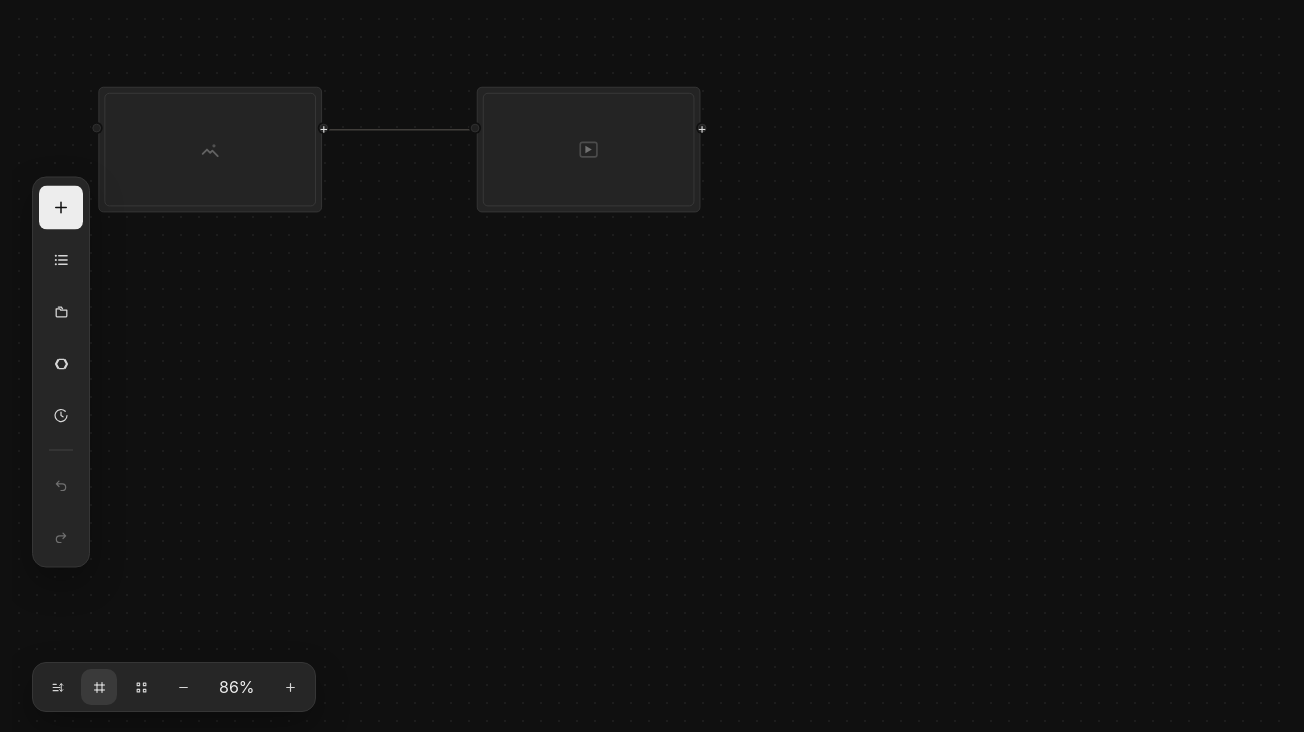
Scenario: NodeWorkflowPanel smoke › replicates the corrected left rail and bottom-left controls with dedicated actions
Expected: the button named "Open saved workflows" is shown, [39,290,83,334]
Expected: the button named "Open shared asset library" is shown, [39,342,83,386]
Click the button named "Add node" at (61, 208), box [39,186,83,230]
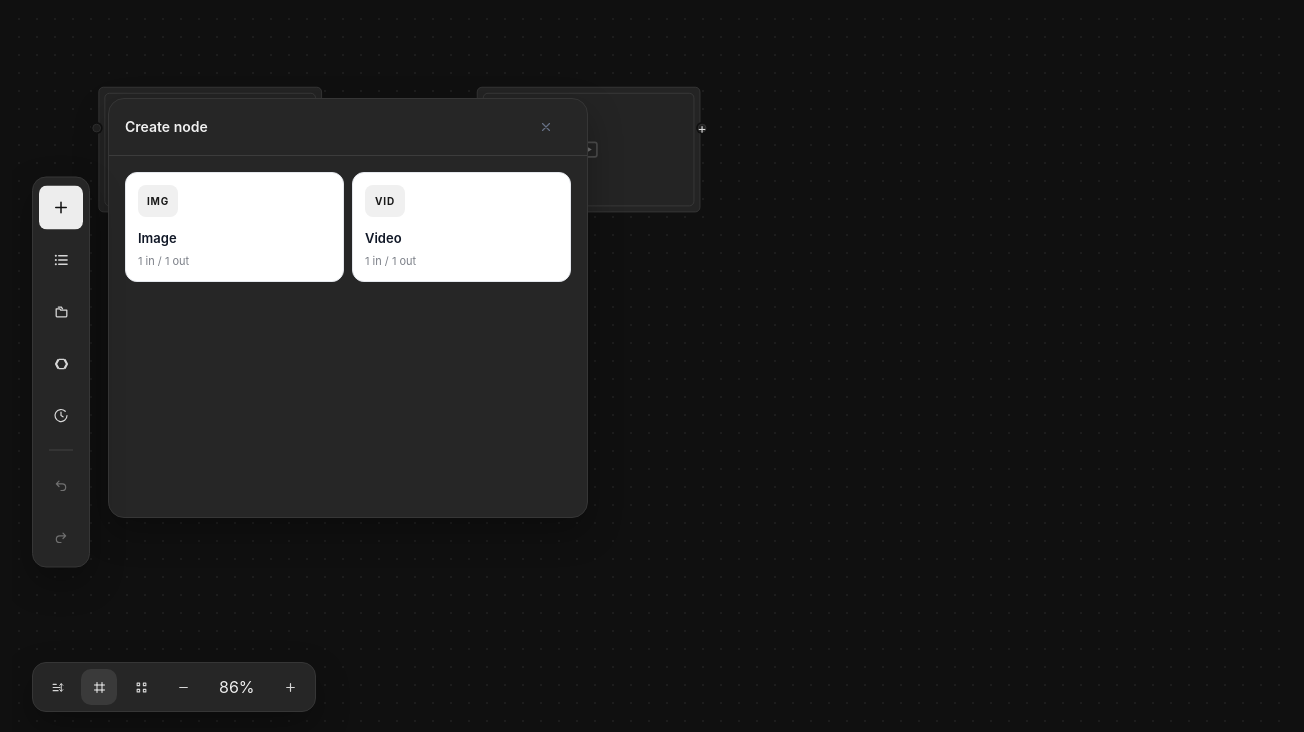
Result: the text "Create node" is shown at [125,117,208,137]
Result: the text "Image" is shown at [138,230,177,246]
Result: the text "Video" is shown at [365,230,402,246]
Click the button named "Open saved workflows" at (61, 312), box [39,290,83,334]
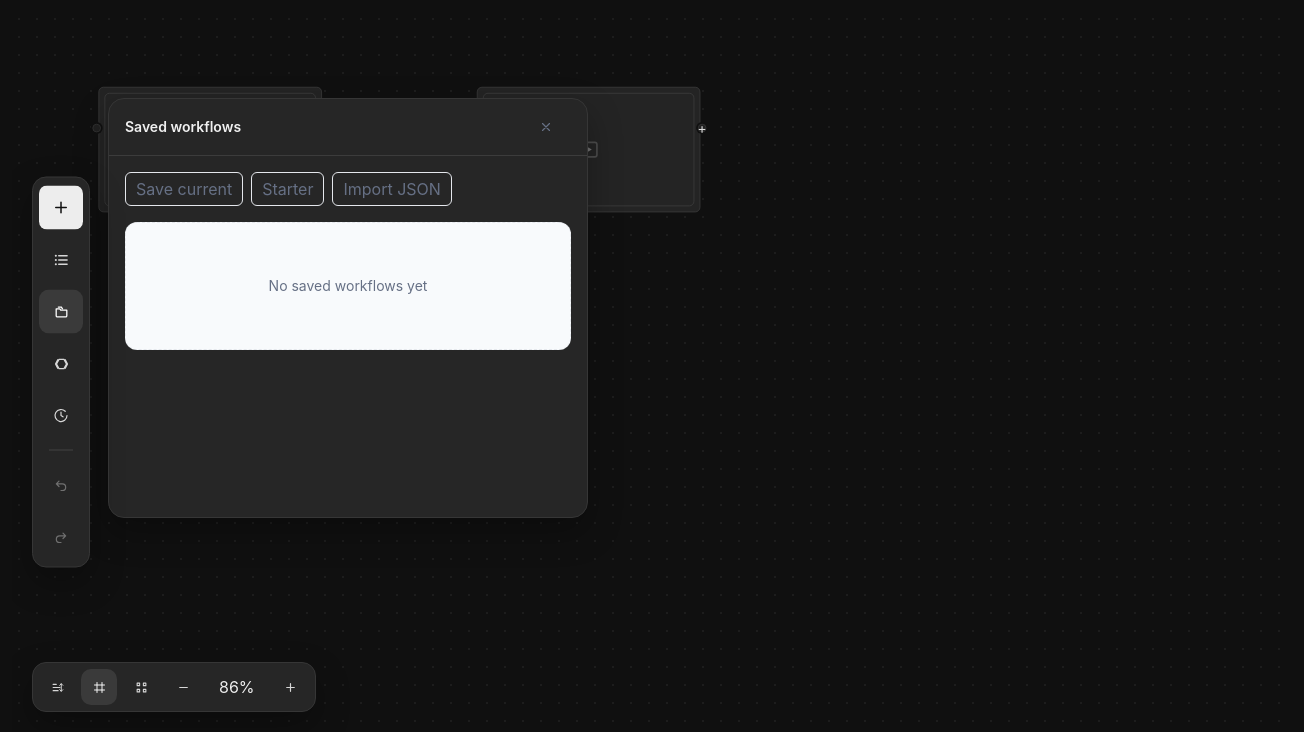
Result: the text "Saved workflows" is shown at [125,117,241,137]
Click the button named "Open shared asset library" at (61, 364), box [39,342,83,386]
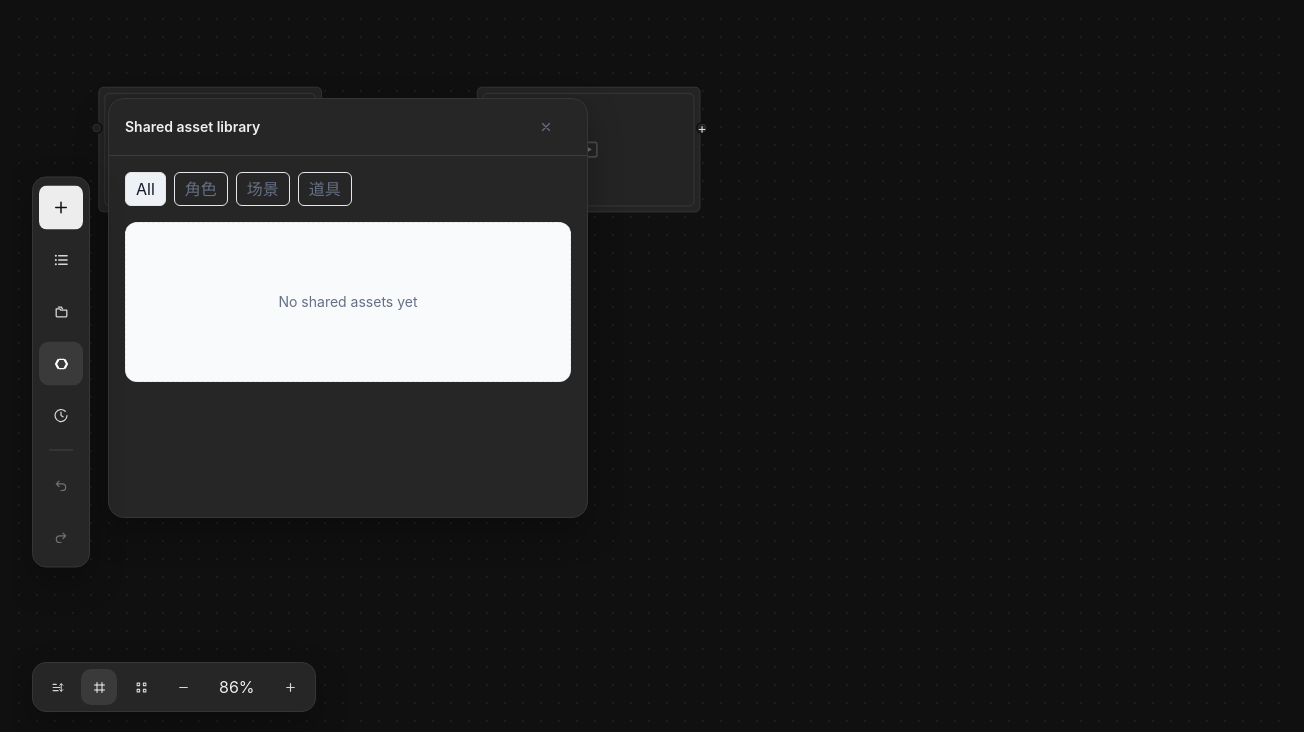
Result: the text "Shared asset library" is shown at [125,117,260,137]
Click the button named "Open generation history" at (61, 416), box [39,394,83,438]
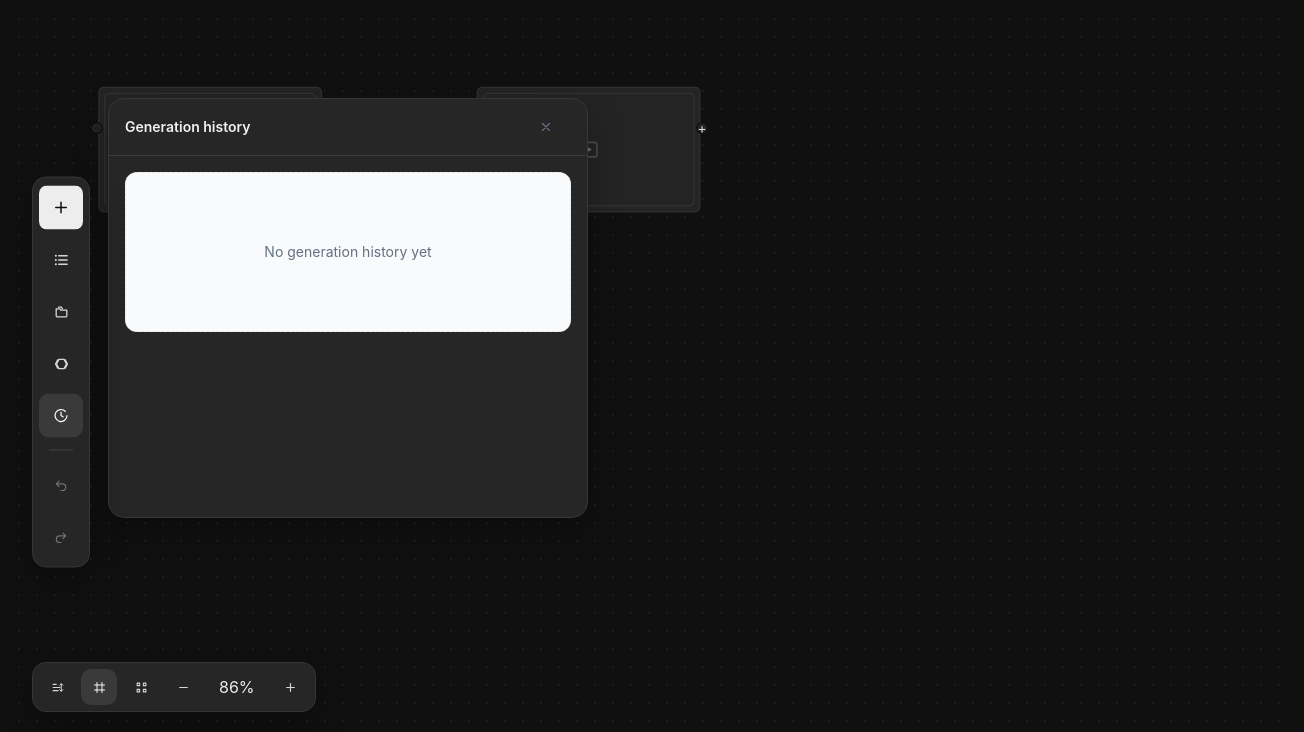
Result: the text "Generation history" is shown at [125,117,251,137]
